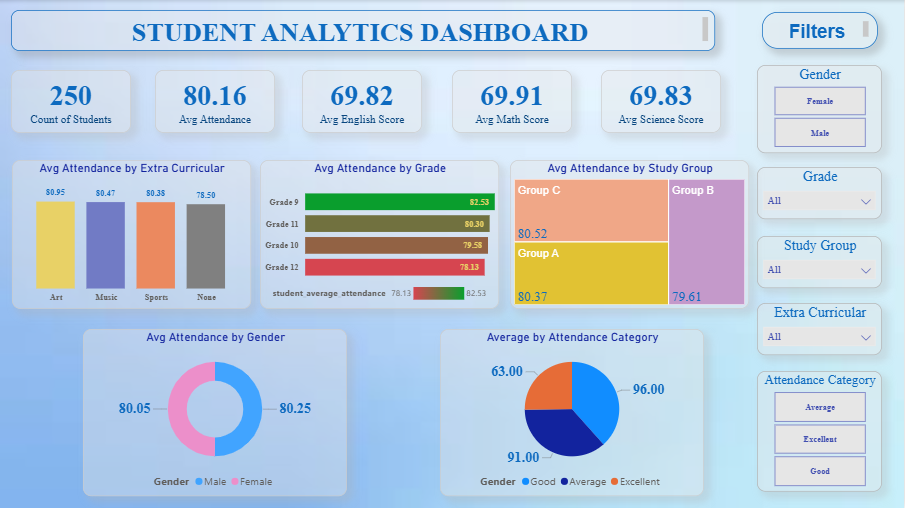

This screenshot's page, from the dashboard's own definition file:
{"tool":"powerbi","page":{"name":"Page 1","canvas":[1280,720],"ordinal":0},"visuals":[{"type":"textbox","box":[15.6,14.2,997.8,58.1],"z":0},{"type":"card","fields":{"Values":["Count(ss_student_performance_dataset (2).student_id)"]},"box":[15.6,99.2,170.1,89.3],"z":1000},{"type":"card","fields":{"Values":["Avg(ss_student_performance_dataset (2).attendance_percent)"]},"box":[219.7,99.2,170.1,89.3],"z":2000},{"type":"card","fields":{"Values":["Avg(ss_student_performance_dataset (2).english_score)"]},"box":[428,99.2,170.1,89.3],"z":3000},{"type":"card","fields":{"Values":["Avg(ss_student_performance_dataset (2).math_score)"]},"box":[640.6,99.2,170.1,89.3],"z":4000},{"type":"card","fields":{"Values":["Avg(ss_student_performance_dataset (2).science_score)"]},"box":[851.8,99.2,170.1,89.3],"z":5000},{"type":"textbox","box":[1080,17,164.4,52.4],"z":6000},{"type":"slicer","title":"Gender","fields":{"Values":["ss_student_performance_dataset (2).gender"]},"box":[1072.9,92.1,177.2,124.7],"z":7000},{"type":"slicer","title":"Grade","fields":{"Values":["ss_student_performance_dataset (2).grade_level"]},"box":[1072.9,236.7,177.2,73.7],"z":8000},{"type":"slicer","title":"Study Group","fields":{"Values":["ss_student_performance_dataset (2).study_group"]},"box":[1072.9,334.5,177.2,73.7],"z":9000},{"type":"slicer","title":"Extra Curricular","fields":{"Values":["ss_student_performance_dataset (2).extra_curricular"]},"box":[1072.9,429.4,177.2,73.7],"z":10000},{"type":"slicer","title":"Attendance Category","fields":{"Values":["students.attendance_category"]},"box":[1072.9,525.8,177.2,171.5],"z":11000},{"type":"donutChart","title":"Avg Attendance by Gender","fields":{"Category":["students.gender"],"Y":["students.student_average_attendance"]},"box":[117.6,466.3,374.2,236.7],"z":12000},{"type":"columnChart","title":"Avg Attendance by Extra Curricular","fields":{"Y":["students.student_average_attendance"],"Category":["students.extra_curricular"]},"box":[17.6,226.1,338.7,211.2],"z":13000},{"type":"clusteredBarChart","title":"Avg Attendance by Grade","fields":{"Category":["students.grade_level"],"Y":["students.student_average_attendance"]},"box":[369.1,226.1,338.7,211.2],"z":14000},{"type":"treemap","title":"Avg Attendance by Study Group","fields":{"Values":["students.student_average_attendance"],"Group":["students.study_group"]},"box":[723.4,226.1,339,211.2],"z":15000},{"type":"pieChart","title":"Average by Attendance Category","fields":{"Category":["students.attendance_category"],"Y":["students.Student count"]},"box":[623.6,466.3,374.2,236.7],"z":16000}]}

Visuals, with their boxes in screenshot pixels (x1, y1, x2, y2), scaled from the page's 1280x720 canvas onto the 905x508 screenshot:
textbox: [left=11, top=10, right=717, bottom=51]
card - Count(ss_student_performance_dataset (2).student_id): [left=11, top=70, right=131, bottom=133]
card - Avg(ss_student_performance_dataset (2).attendance_percent): [left=155, top=70, right=276, bottom=133]
card - Avg(ss_student_performance_dataset (2).english_score): [left=303, top=70, right=423, bottom=133]
card - Avg(ss_student_performance_dataset (2).math_score): [left=453, top=70, right=573, bottom=133]
card - Avg(ss_student_performance_dataset (2).science_score): [left=602, top=70, right=723, bottom=133]
textbox: [left=764, top=12, right=880, bottom=49]
"Gender" slicer: [left=759, top=65, right=884, bottom=153]
"Grade" slicer: [left=759, top=167, right=884, bottom=219]
"Study Group" slicer: [left=759, top=236, right=884, bottom=288]
"Extra Curricular" slicer: [left=759, top=303, right=884, bottom=355]
"Attendance Category" slicer: [left=759, top=371, right=884, bottom=492]
"Avg Attendance by Gender" donutChart: [left=83, top=329, right=348, bottom=496]
"Avg Attendance by Extra Curricular" columnChart: [left=12, top=160, right=252, bottom=309]
"Avg Attendance by Grade" clusteredBarChart: [left=261, top=160, right=500, bottom=309]
"Avg Attendance by Study Group" treemap: [left=511, top=160, right=751, bottom=309]
"Average by Attendance Category" pieChart: [left=441, top=329, right=705, bottom=496]
